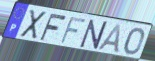A: (96, 23, 122, 55)
F: (58, 16, 88, 45), (38, 13, 68, 42)
N: (79, 19, 109, 51)
O: (123, 27, 145, 56)
X: (18, 9, 47, 41)
